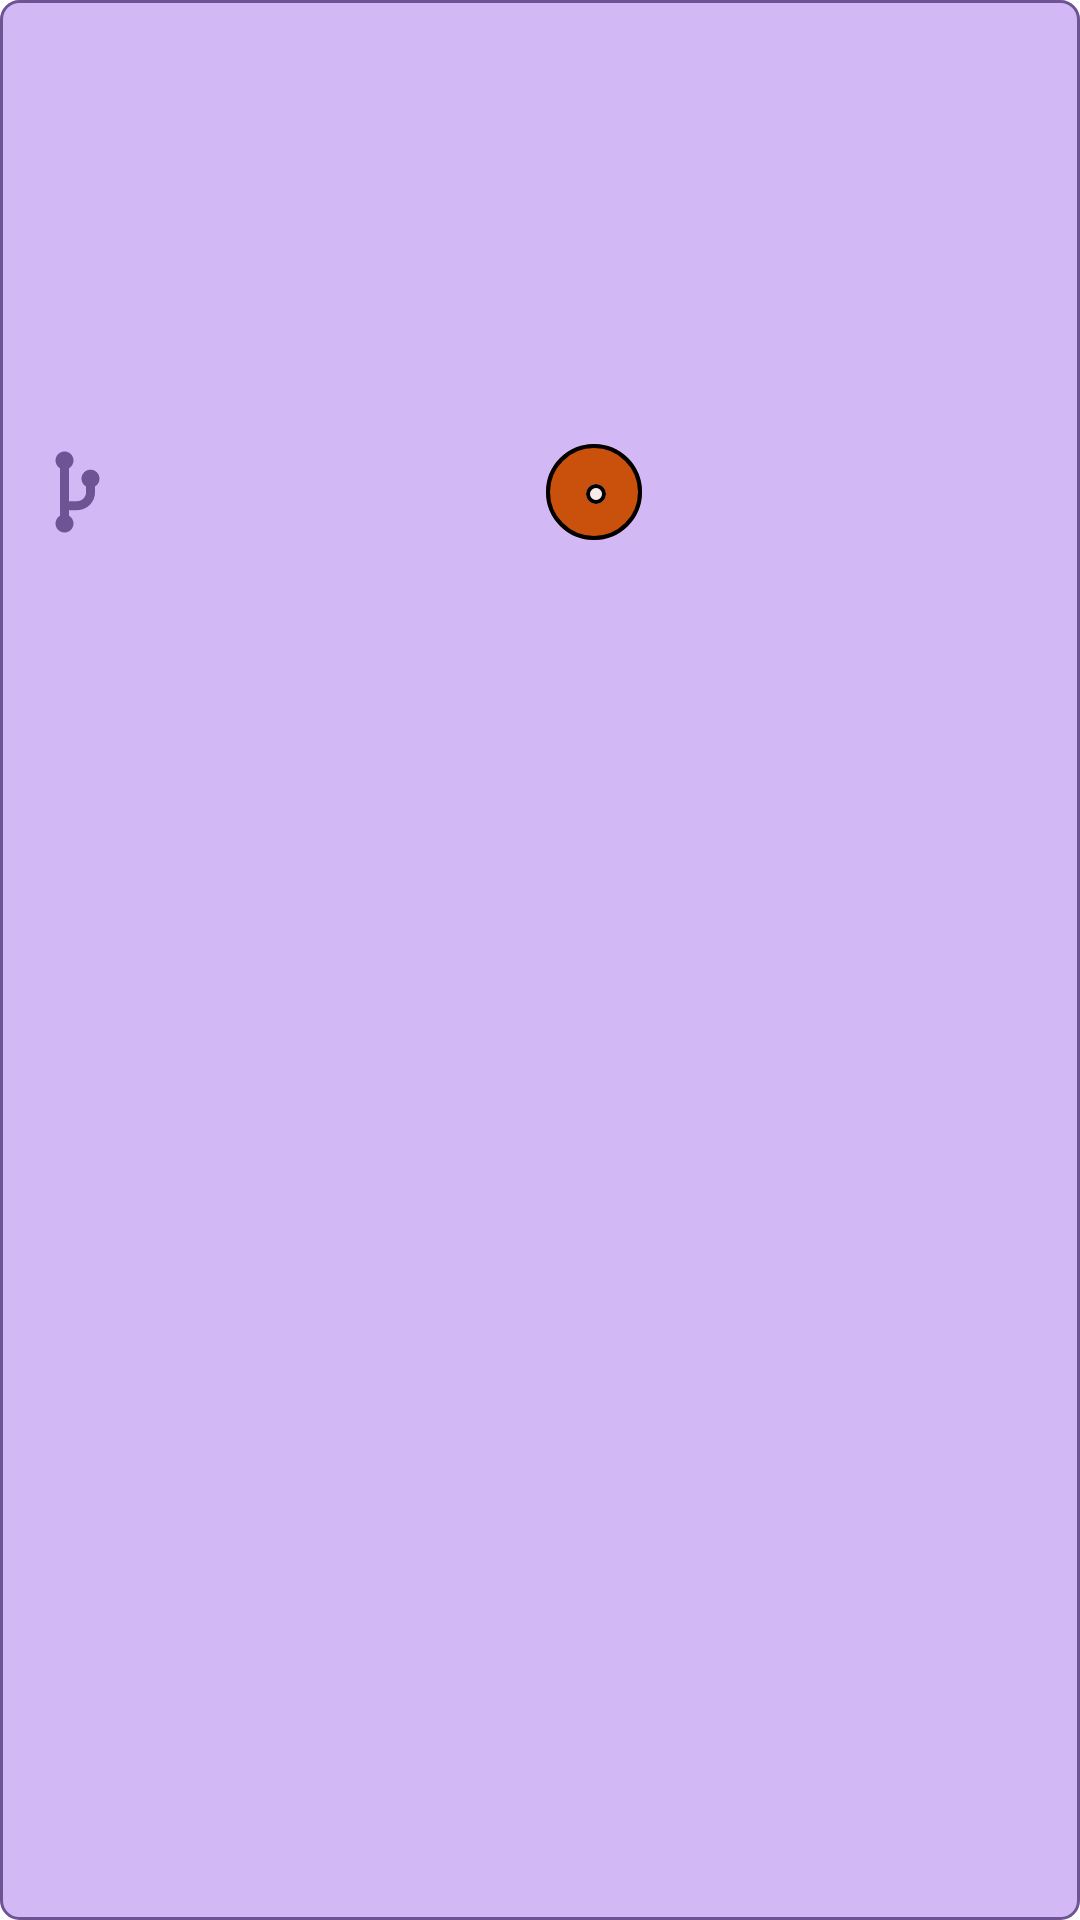

Named icons in this screenshot (1080px x 1920px) and their bounding boxes, (x1, y1, x2, y2):
fork: (55, 451, 100, 533)
